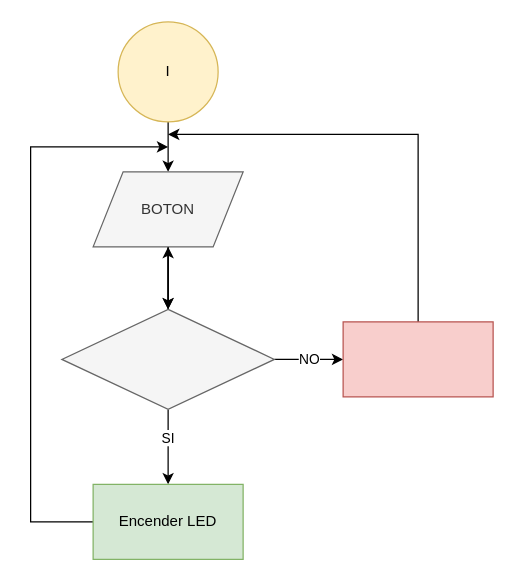
Image size: 515x581. Some labels were removed from this diagram. Here are the shapes that lost their labels. From the top down, the centre of each, then its label:
[167,358]: BOTON presionado?
[417,359]: Apagar LED
